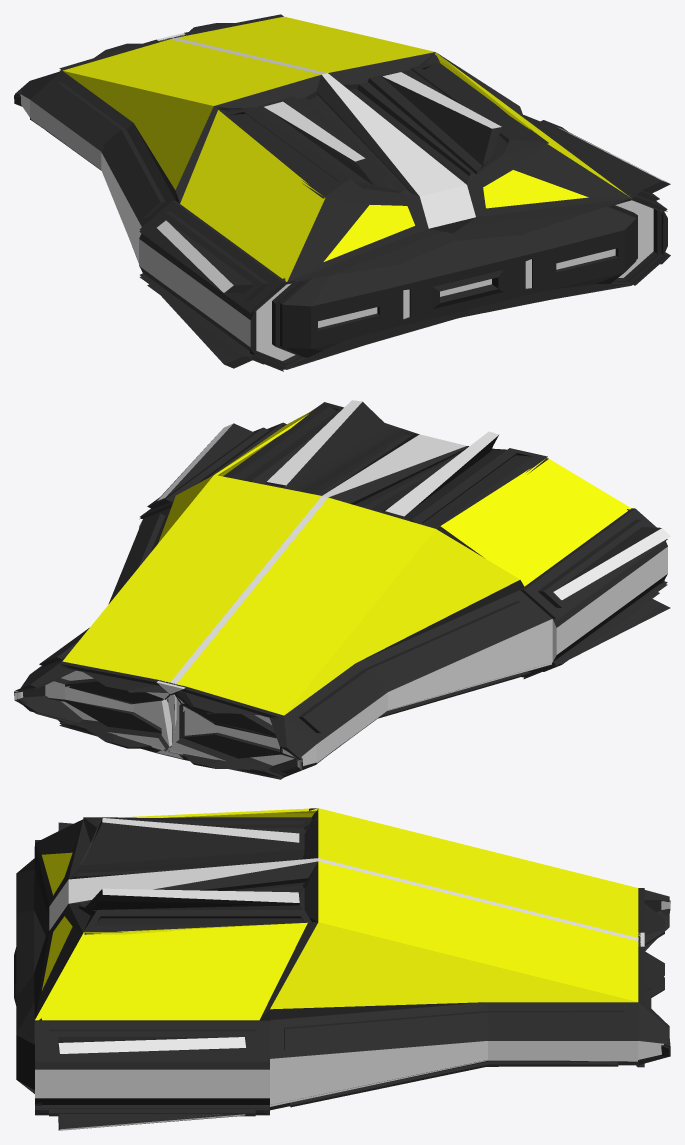
Rendered from Voiture2.fbx.
3 views of the same model, one above another, from view 1: azimuth 30°, elevation 25°; view 2: azimuth 150°, elevation 25°; view 3: azimuth 270°, elevation 25° (orthographic). The views are drawn at different scales.
Visible parts, largest first — view 1: Voiture2; view 2: Voiture2; view 3: Voiture2.
Part boxes in pixels (<box>): Voiture2: <box>14,14,670,371</box>; Voiture2: <box>14,400,670,779</box>; Voiture2: <box>14,808,670,1130</box>.
Size of the model in its own units: 262 by 217 by 75.02.
